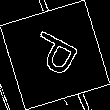P_SE: (24, 26, 86, 84)
